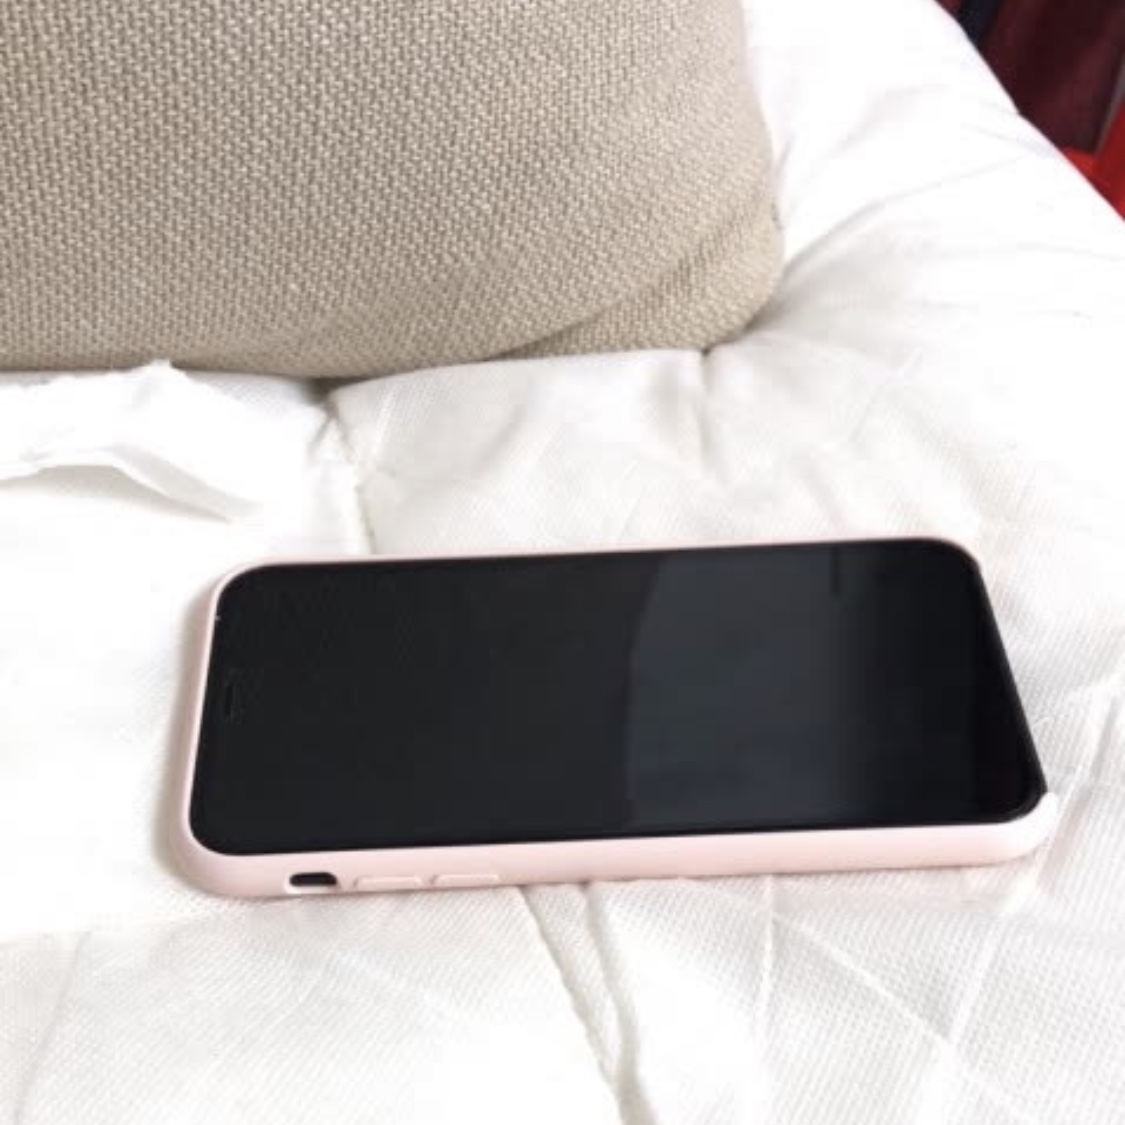mobil: (163, 538, 1059, 899)
